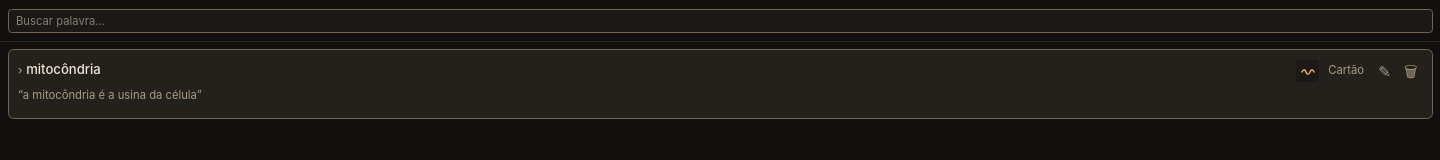
Scenario: sem seleção — a lista do que já foi colhido › busca sem nenhuma correspondência mostra uma mensagem específica, não a lista vazia genérica
This screenshot has width=1440, height=160.
Type "zzz" into the field named "Buscar palavra colhida" at {"x": 720, "y": 21}, box [8,9,1432,33]
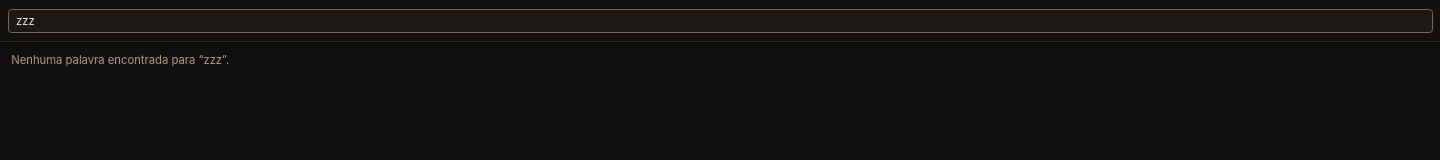
Expected: the text "Nenhuma palavra encontrada para “zzz”." is shown, [11,53,229,67]
